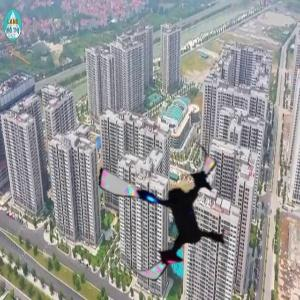drone: (90, 134, 243, 287)
